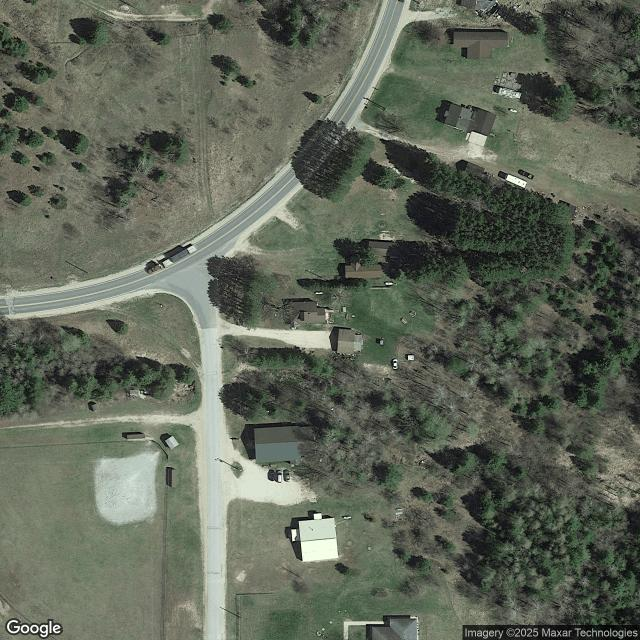Propane: (509, 108, 518, 114), (385, 282, 393, 286), (344, 516, 352, 519), (315, 292, 323, 295)
